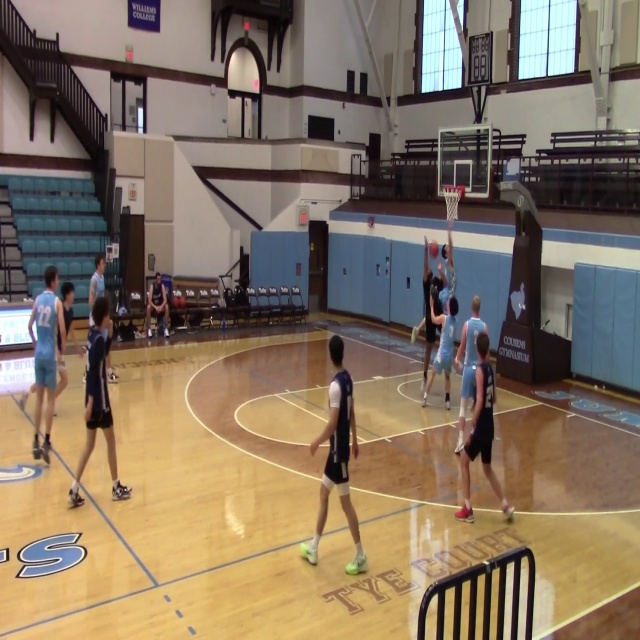Basketball: (449, 297, 458, 316), (429, 242, 438, 257)
